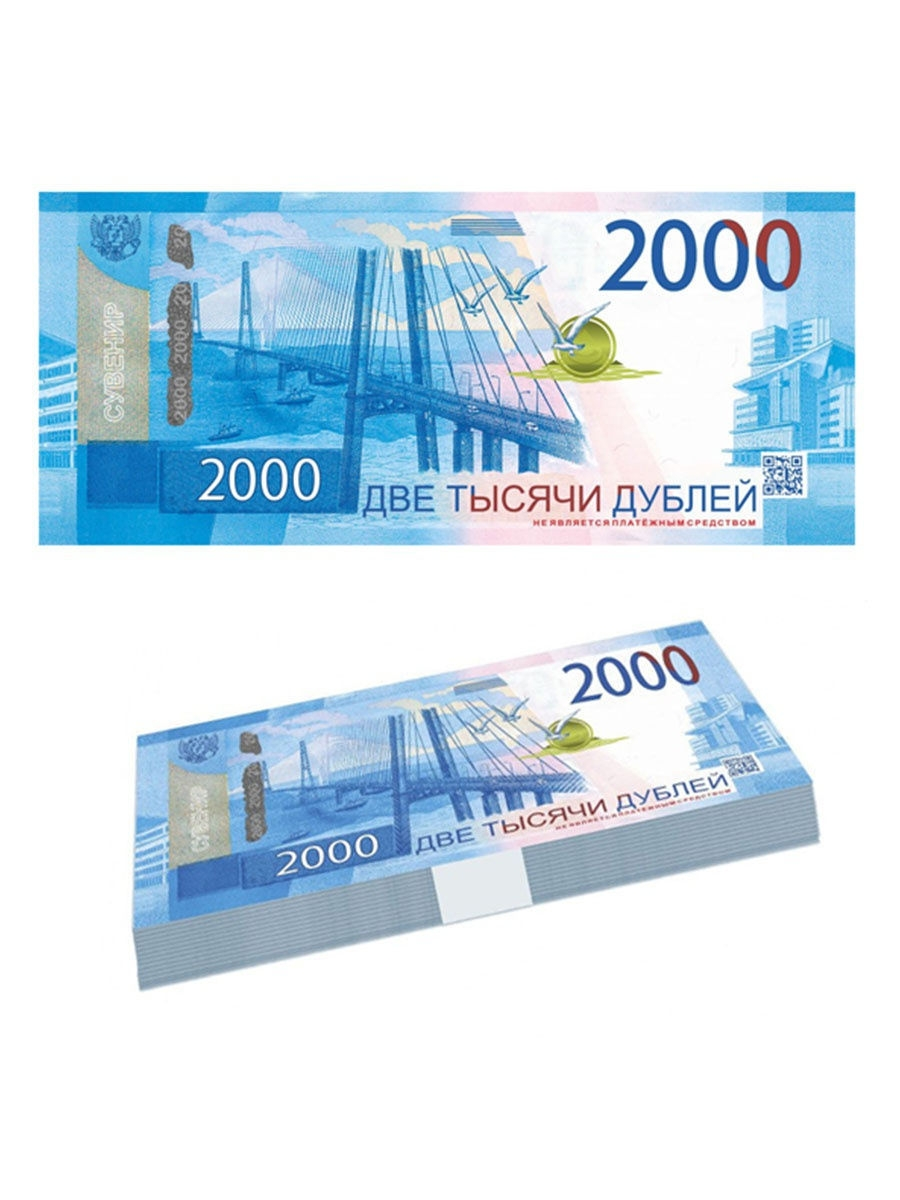cash: (39, 188, 858, 549), (133, 620, 813, 933)
